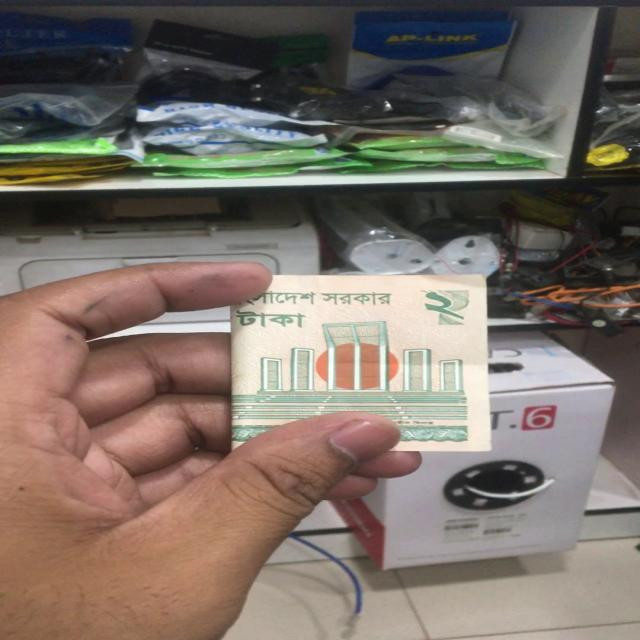Taka: (276, 278, 508, 432)
